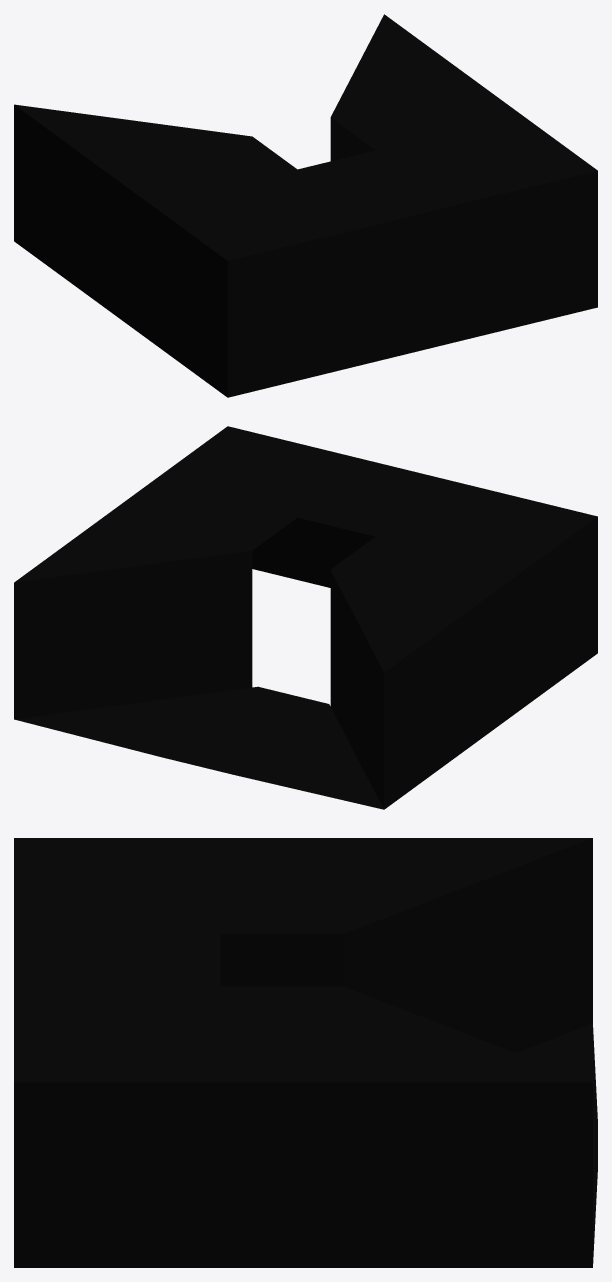
Rendered from Dest_VolcanicCanyon_Field_Shadow.FBX.
The picture shows the model from 3 angles, top to bottom: view 1: azimuth 30°, elevation 25°; view 2: azimuth 150°, elevation 25°; view 3: azimuth 270°, elevation 25°; orthographic projection. The views are drawn at different scales.
Parts seen in each view (by area): view 1: Object001; view 2: Object001; view 3: Object001.
Boxes of the visible parts, x1=… form: Object001: x1=14, y1=14, x2=597, y2=397; Object001: x1=14, y1=426, x2=597, y2=809; Object001: x1=14, y1=838, x2=597, y2=1267.
Size of the model in its own units: 7221 by 2550 by 7284.
